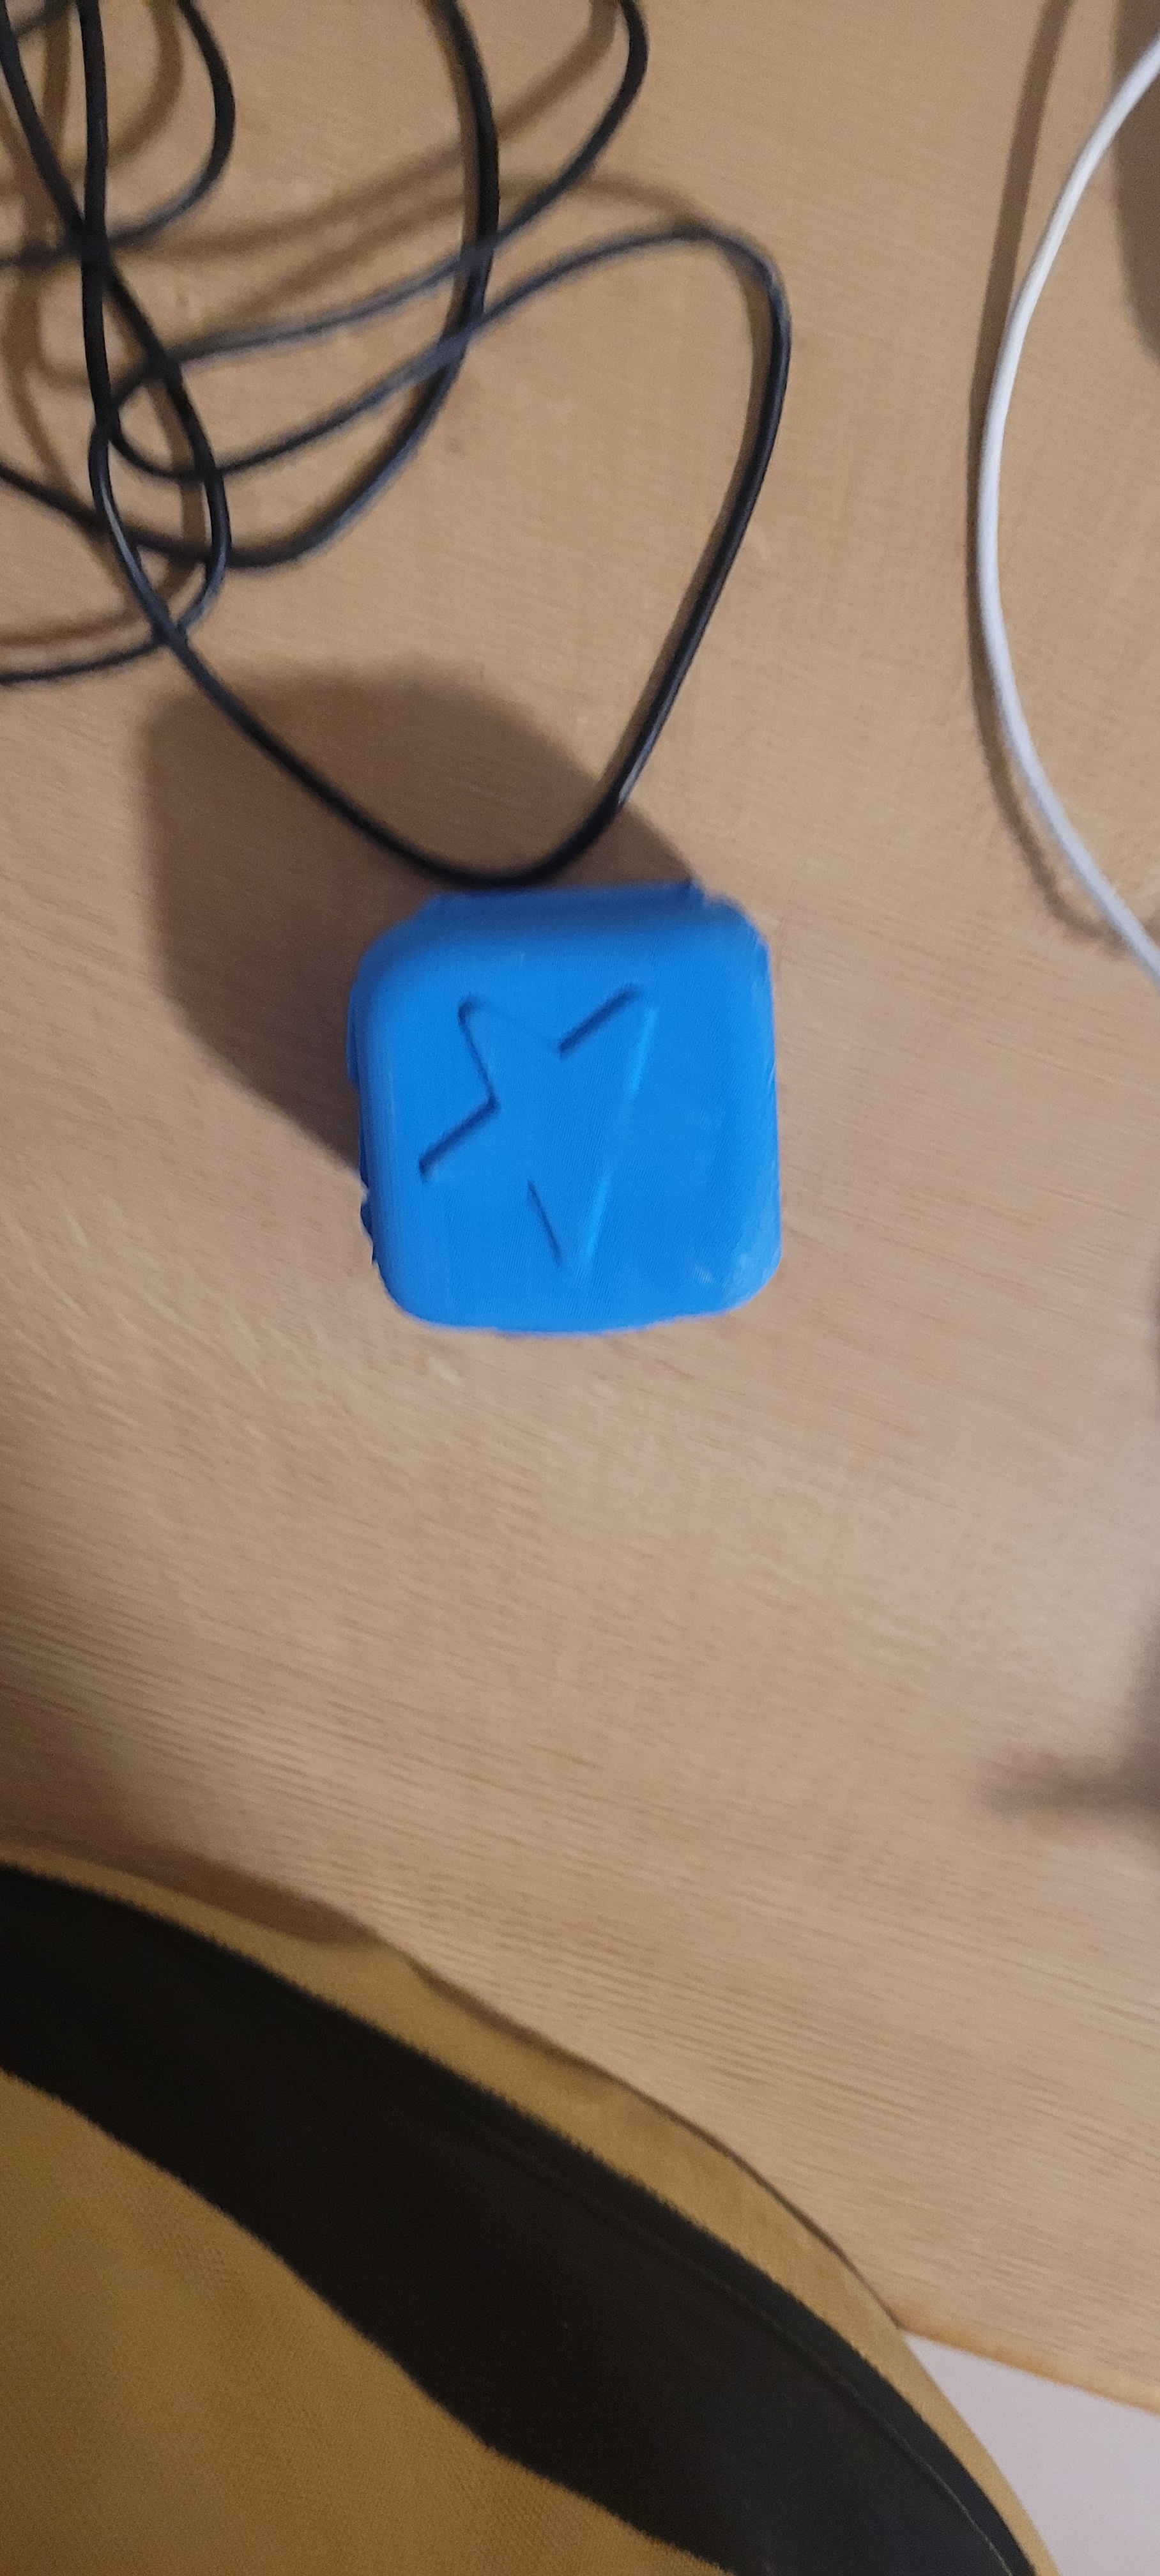Star: (407, 981, 748, 1268)
